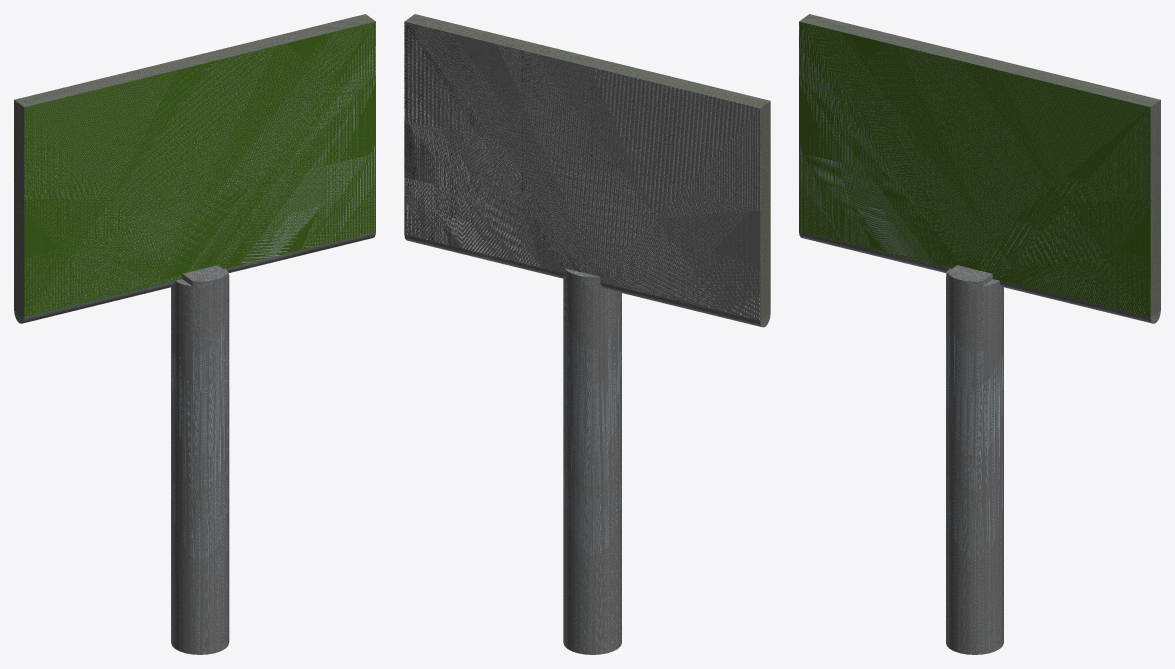
The model's file is map_dae.dae.
The picture shows the model from 3 angles, left to right: view 1: azimuth 30°, elevation 25°; view 2: azimuth 150°, elevation 25°; view 3: azimuth 330°, elevation 25°; orthographic projection.
Parts seen in each view (by area): view 1: SketchUp (×3); view 2: SketchUp (×3), image_0; view 3: SketchUp (×3).
Boxes of the visible parts, box(x1,y1,x2,y2) form: SketchUp (×3): box(14, 14, 375, 654); SketchUp (×3): box(404, 14, 770, 654); image_0: box(404, 22, 742, 275); SketchUp (×3): box(799, 14, 1160, 654).
Bounding box in the file's own units: 27.56 × 3.94 × 43.31.
5 materials, 1 textured.
